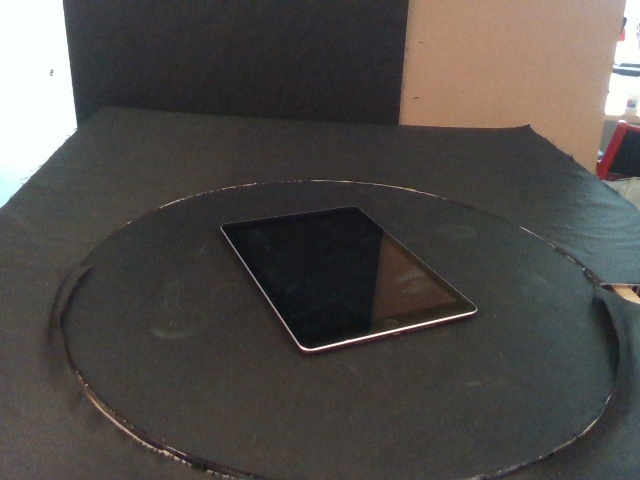laptop: (218, 206, 479, 354)
